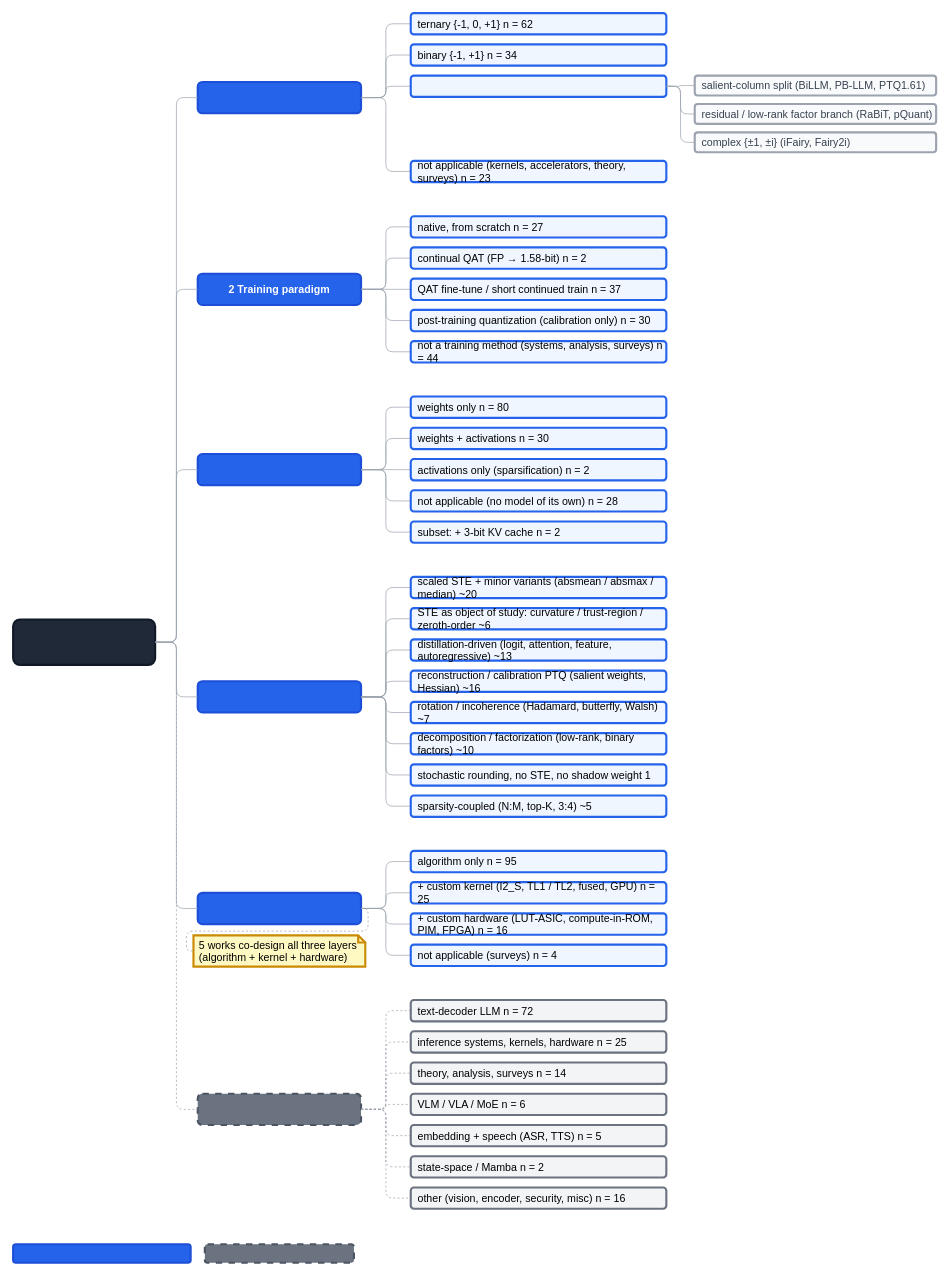
Some shapes in this 949 by 1276 pixel diagram are drawn without their labels. Here are the shapes that lost their labels. From the top down, the box of each, then its label:
(196, 81, 362, 114): 1 Weight representation
(409, 74, 667, 98): mixed / partial n = 21
(196, 453, 362, 486): 3 Components quantized
(12, 618, 156, 666): Native 1-bit / 1.58-bit LLMs (n = 140)
(196, 680, 362, 713): 4 Optimization mechanism
(196, 891, 362, 925): 5 Systems stack
(196, 1092, 362, 1126): Secondary cut: modality / use
(12, 1243, 191, 1263): primary axis (all works classified)
(203, 1243, 355, 1263): secondary cut (modality)
